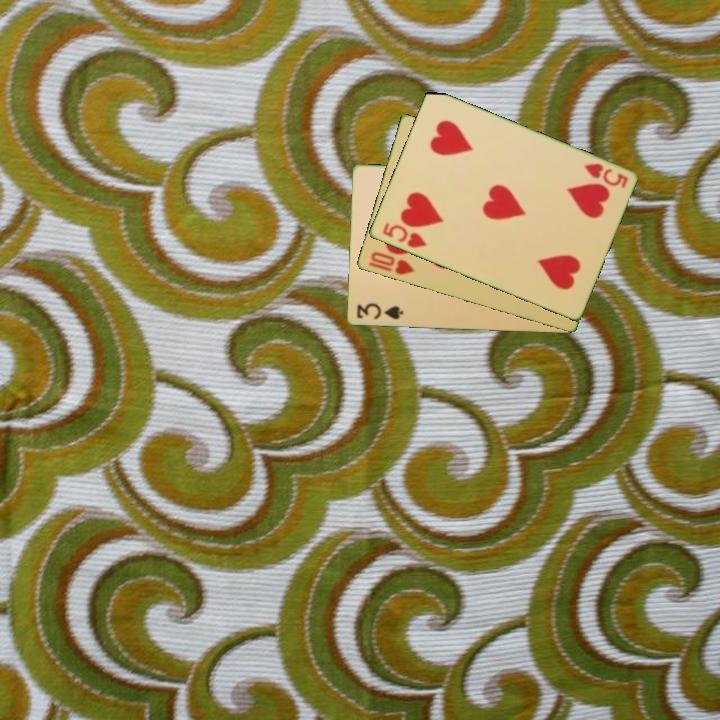10h: (365, 248, 417, 278)
3s: (353, 300, 406, 322)
5h: (378, 219, 429, 251), (580, 160, 631, 191)
